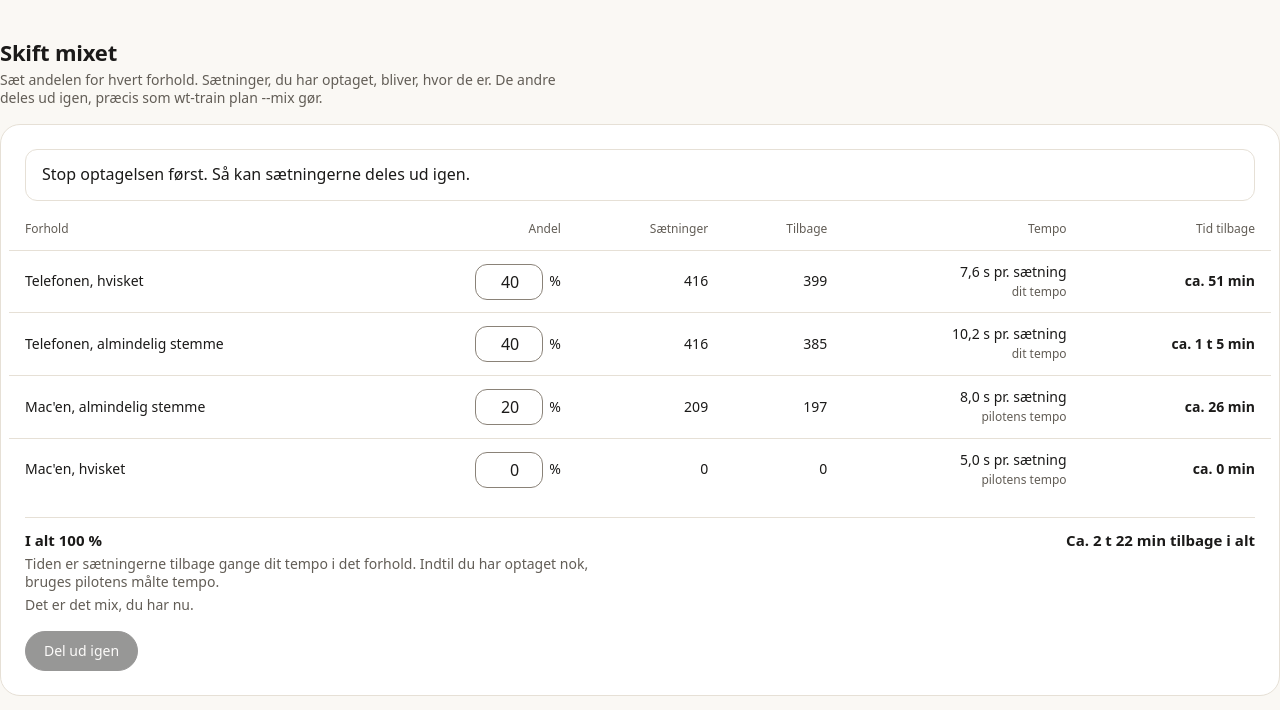
the mix › waits while a recording is picked
Expected: the text "Stop optagelsen først. Så kan sætningerne deles ud igen." is shown, [42,162,470,188]
Replace the text in the number field named "Andel for Telefonen, hvisket i procent" with "30" at (509, 282), box [475,264,543,300]
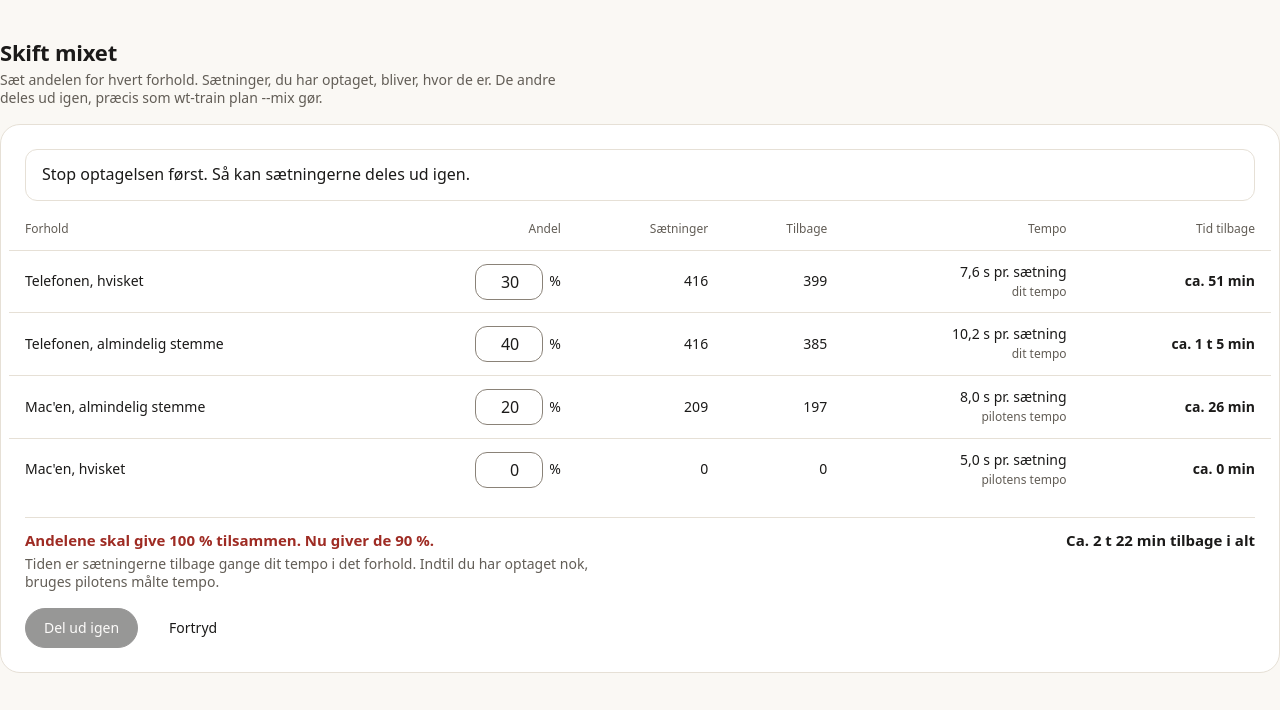
Replace the text in the number field named "Andel for Mac'en, hvisket i procent" with "10" at (509, 470), box [475,452,543,488]
(page scrolled)
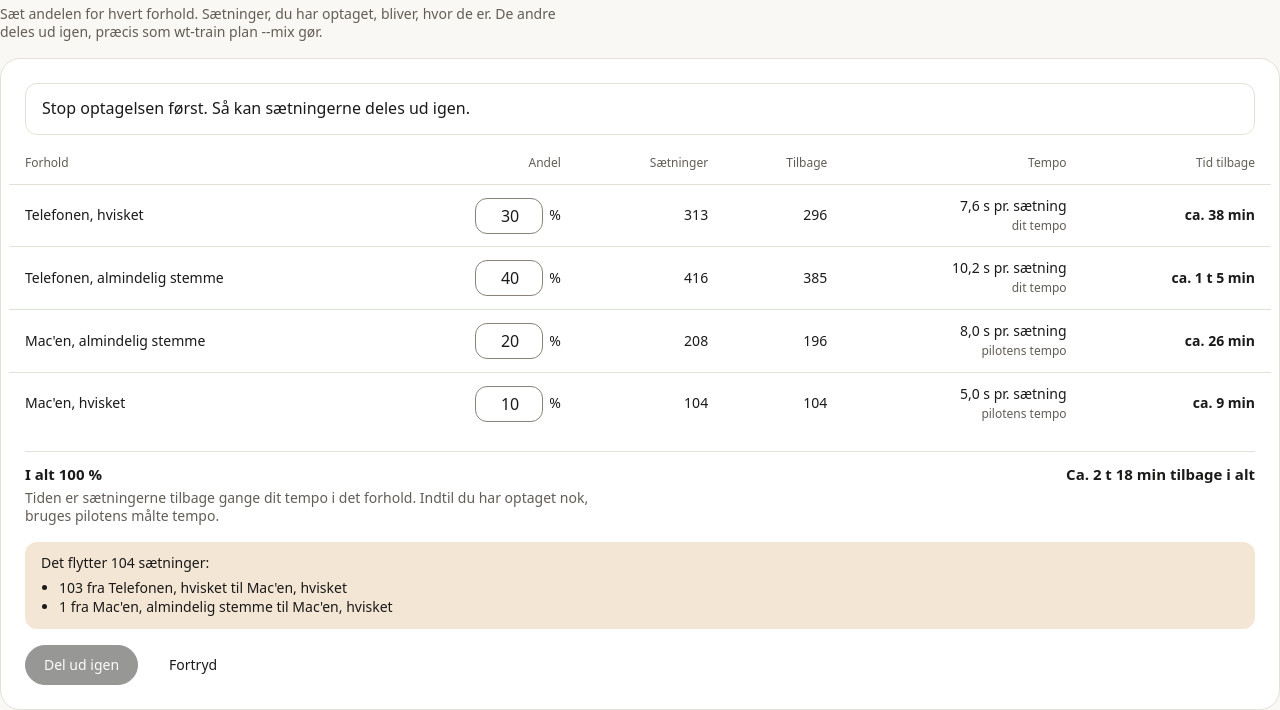
Expected: the button "Del ud igen" is disabled, [25,645,138,685]
Now the text "Det flytter 104 sætninger:" is shown, box [41,553,209,572]
Click the button "Fortryd".
click(193, 665)  # box [150,645,236,685]
(page scrolled)
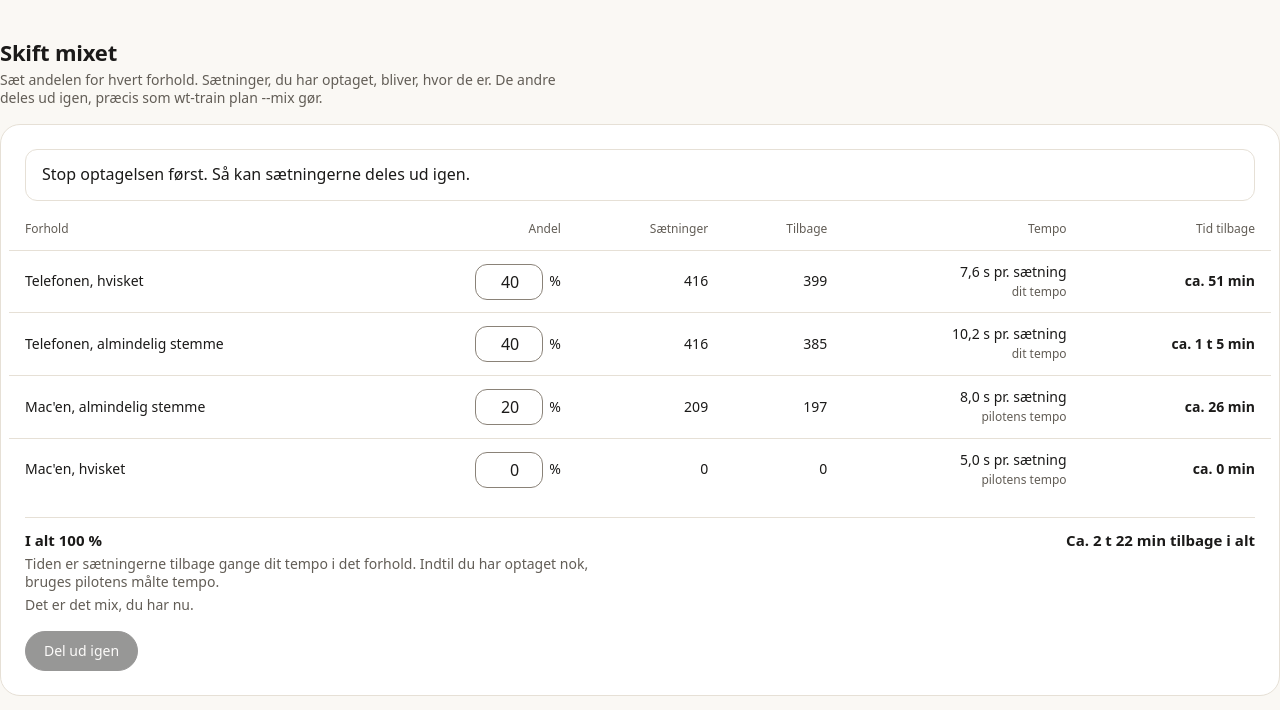
Now the number field named "Andel for Mac'en, hvisket i procent" holds "0", box [475,452,543,488]
